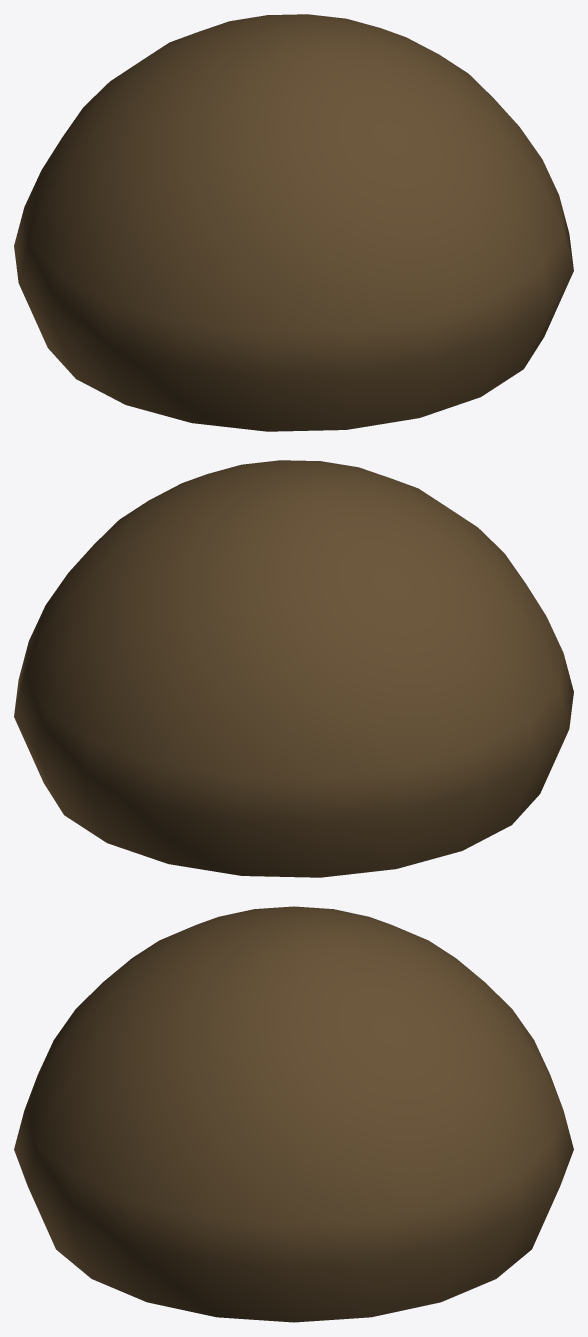
The model's file is hair_afro_4.fbx.
The picture shows the model from 3 angles, top to bottom: view 1: azimuth 30°, elevation 25°; view 2: azimuth 150°, elevation 25°; view 3: azimuth 270°, elevation 25°; orthographic projection.
Parts seen in each view (by area): view 1: pSphere14; view 2: pSphere14; view 3: pSphere14.
Part boxes in pixels (x1,y1,x2,y2): pSphere14: (14,14,573,431); pSphere14: (14,460,573,877); pSphere14: (14,906,573,1322).
Bounding box in the file's own units: 2.15 × 1.2 × 2.15.
